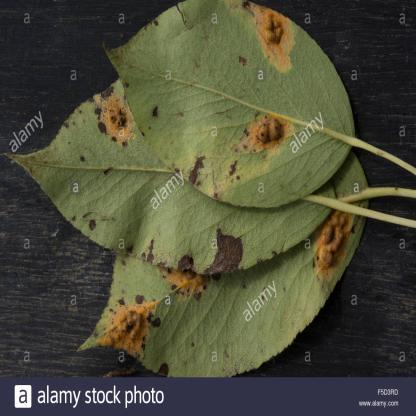Apple rust leaf: (97, 6, 382, 209), (84, 200, 395, 380), (21, 94, 354, 258)
